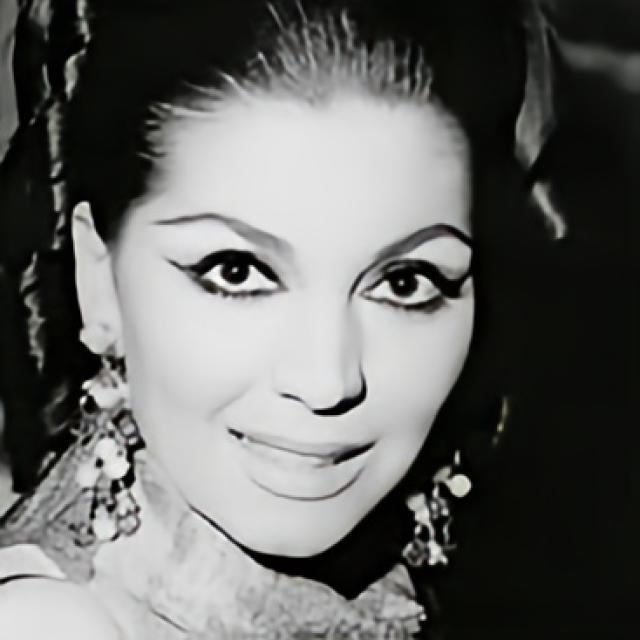happy: (109, 62, 482, 560)
